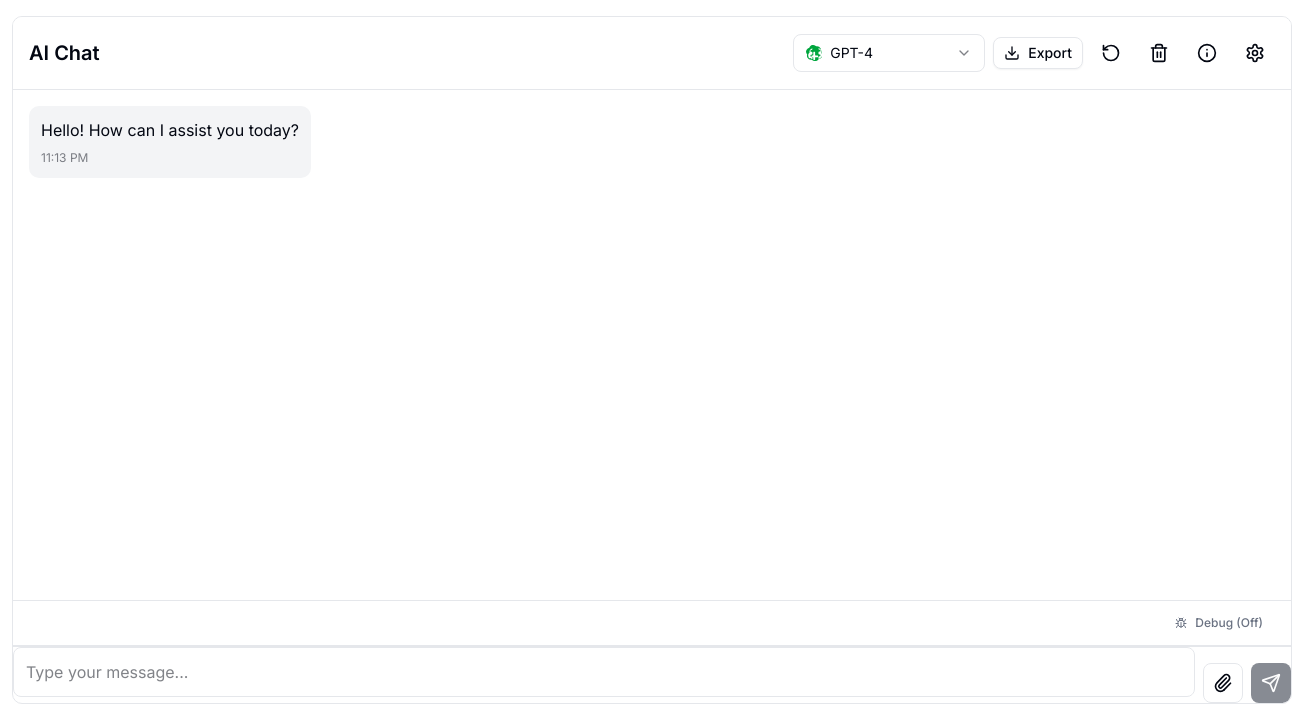
ChatInterface › Debug Mode › should toggle debug mode when clicking the debug button
Click the button "Debug (Off)": (1219, 623) [1163,605,1275,641]
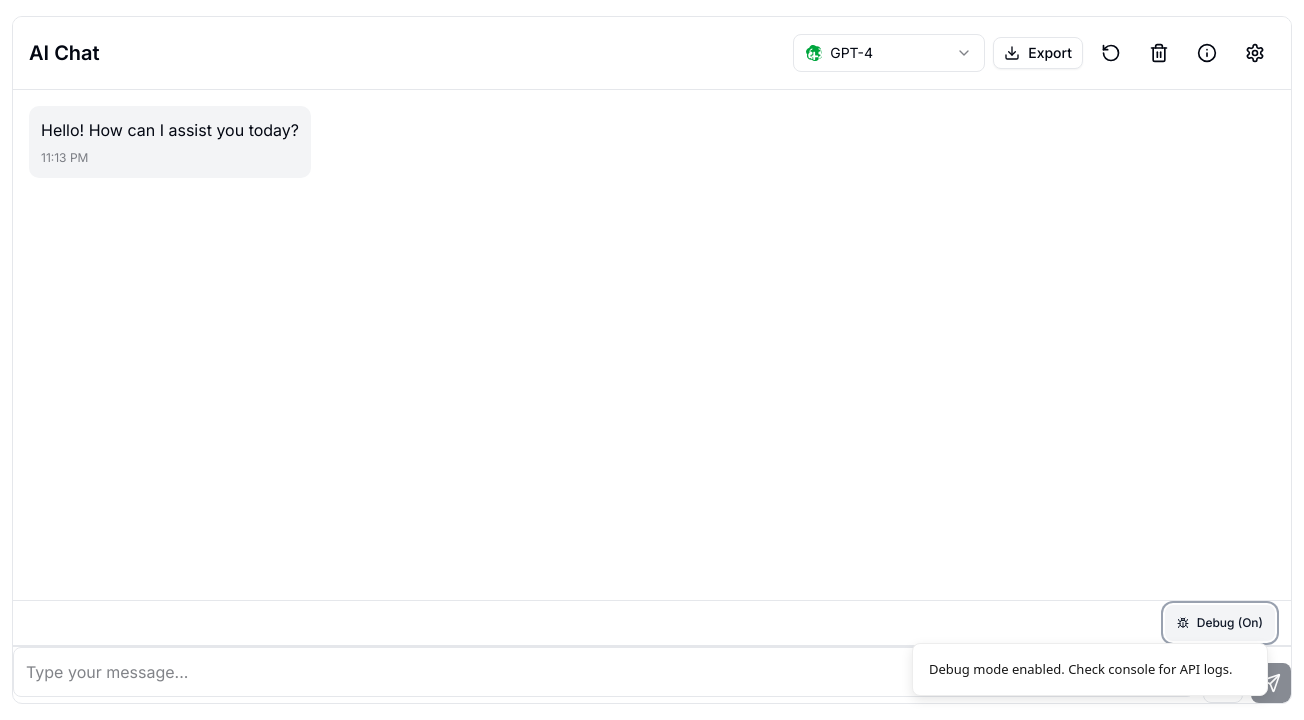
Now the button "Debug (On)" is shown
Now the text "Debug mode enabled" is shown, box [929,660,1233,678]
Click the button "Debug (On)": (1220, 623) [1165,605,1275,641]
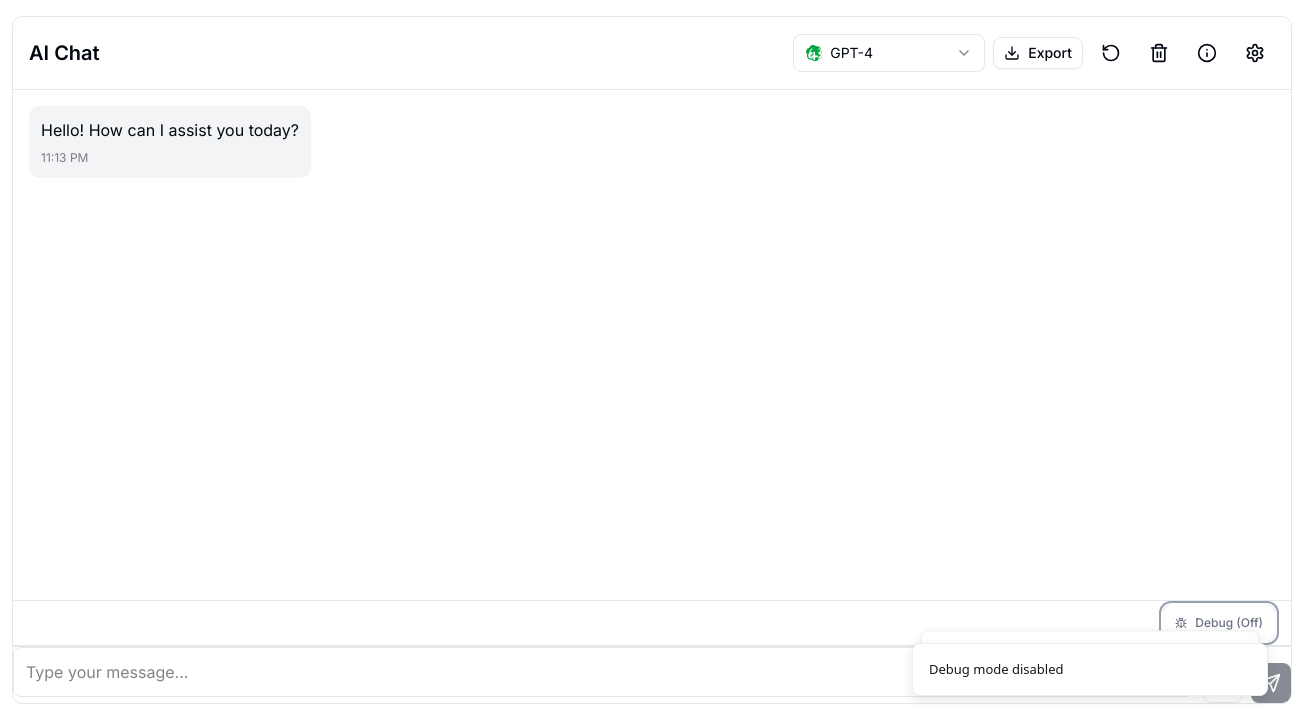
Now the text "Debug mode disabled" is shown, box [929,660,1064,679]
